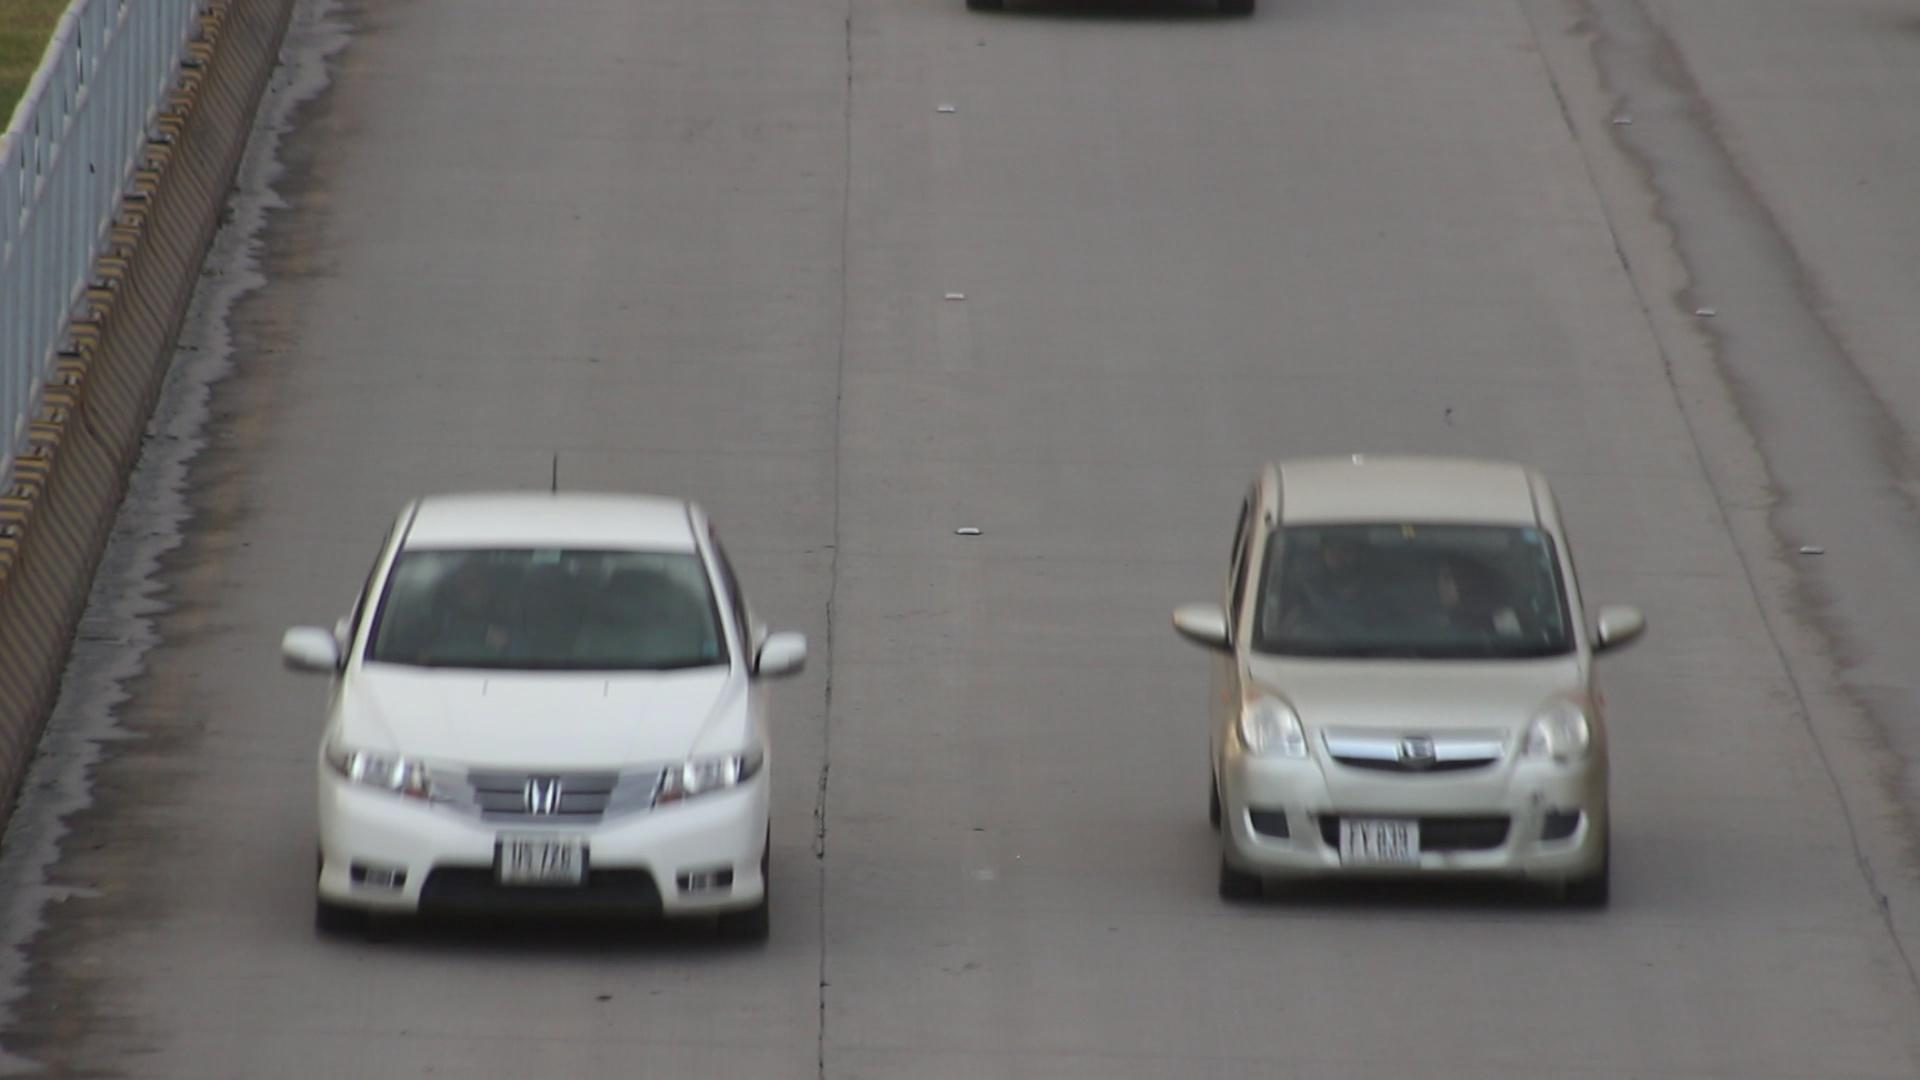windshield: (355, 526, 737, 670), (1244, 506, 1590, 653)
